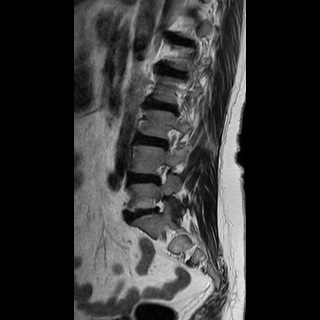RFS0: (152, 156, 174, 191), (162, 120, 184, 155)
